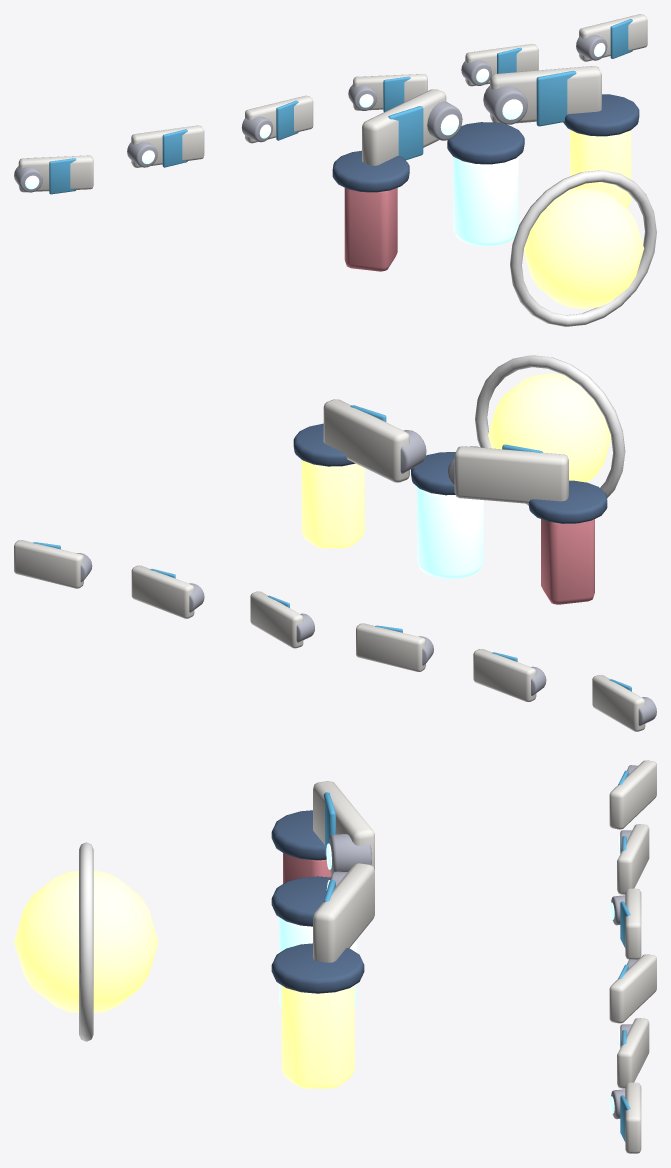
Rendered from gameplay_props.glb.
3 views of the same model, one above another, from view 1: azimuth 30°, elevation 25°; view 2: azimuth 150°, elevation 25°; view 3: azimuth 270°, elevation 25° (orthographic). The views are drawn at different scales.
Parts seen in each view (by area): view 1: Golden_Energy_Core, Power_Cell_2, Golden_Core_Ring, Power_Cell_1, Power_Cell_3, Wing_Right_Panel, Power_Cell_Cap_2, Wing_Left_Panel, Power_Cell_Cap_1, Power_Cell_Cap_3, Wing_Right_Blue, Collectible_Wing_1_Panel (+20 smaller); view 2: Golden_Energy_Core, Wing_Left_Panel, Power_Cell_2, Power_Cell_3, Wing_Right_Panel, Power_Cell_1, Golden_Core_Ring, Collectible_Wing_3_Panel, Collectible_Wing_6_Panel, Power_Cell_Cap_1, Collectible_Wing_5_Panel, Collectible_Wing_2_Panel (+5 smaller); view 3: Golden_Energy_Core, Power_Cell_3, Wing_Right_Panel, Power_Cell_Cap_3, Golden_Core_Ring, Wing_Left_Panel, Collectible_Wing_1_Panel, Collectible_Wing_4_Panel, Power_Cell_Cap_2, Power_Cell_Cap_1, Collectible_Wing_5_Panel, Collectible_Wing_2_Panel (+5 smaller).
Part boxes in pixels (x1=…): Golden_Energy_Core: x1=523, y1=188, x2=644, y2=308; Power_Cell_2: x1=453, y1=156, x2=518, y2=246; Golden_Core_Ring: x1=510, y1=170, x2=656, y2=326; Power_Cell_1: x1=344, y1=188, x2=397, y2=271; Power_Cell_3: x1=570, y1=129, x2=631, y2=207; Wing_Right_Panel: x1=490, y1=66, x2=601, y2=123; Power_Cell_Cap_2: x1=447, y1=122, x2=524, y2=164; Wing_Left_Panel: x1=362, y1=89, x2=446, y2=165; Power_Cell_Cap_1: x1=332, y1=150, x2=409, y2=192; Power_Cell_Cap_3: x1=563, y1=94, x2=639, y2=136; Wing_Right_Blue: x1=536, y1=71, x2=576, y2=126; Collectible_Wing_1_Panel: x1=18, y1=155, x2=93, y2=192; Golden_Energy_Core: x1=488, y1=373, x2=611, y2=482; Wing_Left_Panel: x1=454, y1=446, x2=568, y2=503; Power_Cell_2: x1=417, y1=487, x2=483, y2=578; Power_Cell_3: x1=301, y1=460, x2=364, y2=548; Wing_Right_Panel: x1=323, y1=399, x2=409, y2=482; Power_Cell_1: x1=541, y1=519, x2=594, y2=604; Golden_Core_Ring: x1=475, y1=355, x2=625, y2=505; Collectible_Wing_3_Panel: x1=356, y1=623, x2=425, y2=671; Collectible_Wing_6_Panel: x1=14, y1=540, x2=83, y2=588; Power_Cell_Cap_1: x1=528, y1=480, x2=607, y2=523; Collectible_Wing_5_Panel: x1=131, y1=565, x2=194, y2=618; Collectible_Wing_2_Panel: x1=473, y1=649, x2=536, y2=701; Golden_Energy_Core: x1=14, y1=871, x2=158, y2=1013; Power_Cell_3: x1=281, y1=985, x2=354, y2=1088; Wing_Right_Panel: x1=313, y1=863, x2=374, y2=962; Power_Cell_Cap_3: x1=271, y1=943, x2=364, y2=993; Golden_Core_Ring: x1=79, y1=842, x2=93, y2=1041; Wing_Left_Panel: x1=313, y1=781, x2=374, y2=870; Collectible_Wing_1_Panel: x1=609, y1=760, x2=656, y2=829; Collectible_Wing_4_Panel: x1=609, y1=954, x2=656, y2=1023; Power_Cell_Cap_2: x1=271, y1=876, x2=330, y2=926; Power_Cell_Cap_1: x1=271, y1=810, x2=326, y2=860; Collectible_Wing_5_Panel: x1=617, y1=1018, x2=649, y2=1088; Collectible_Wing_2_Panel: x1=617, y1=824, x2=649, y2=894.
Size of the model in its own units: 9.28 by 2.23 by 6.94.
